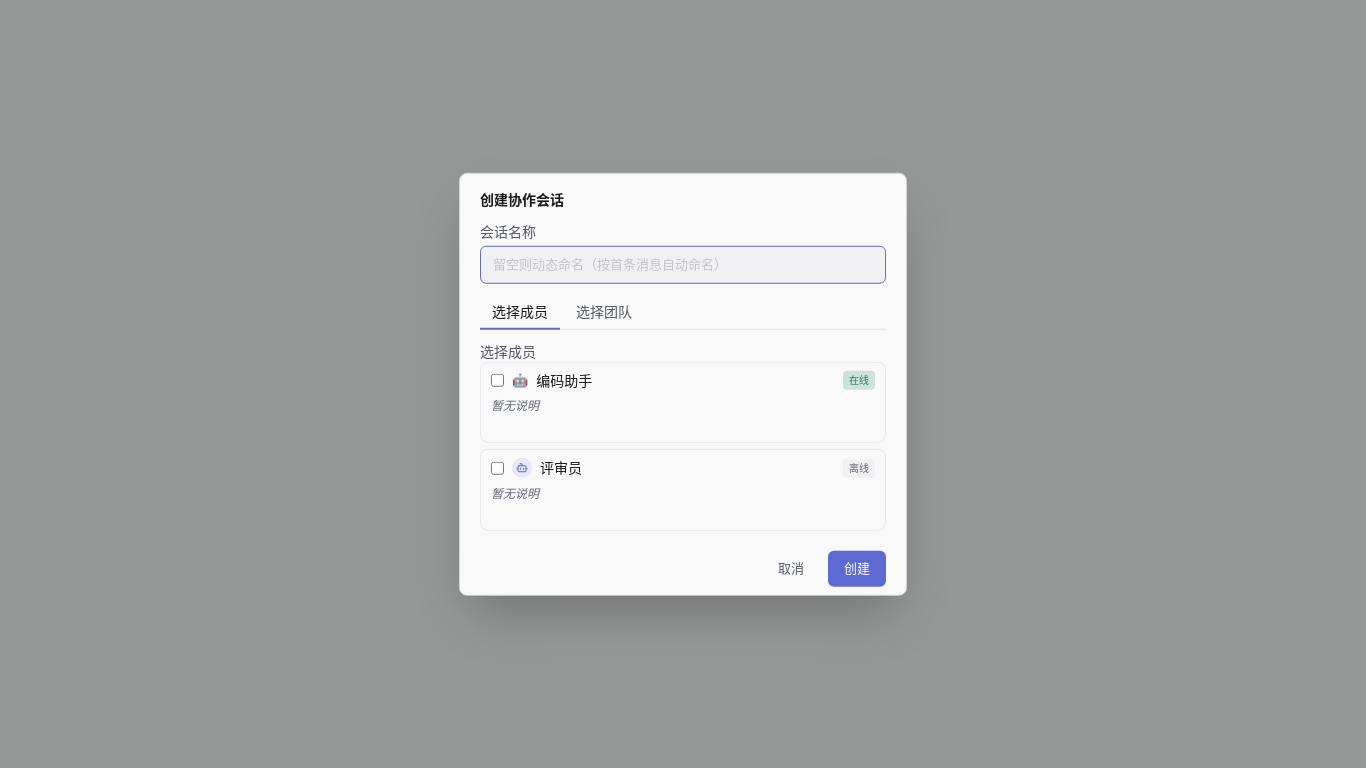
Test: CollabSessionDialog — 成员多选与主 agent（Task 11，预览 B rev2 批准交互） › 1. 勾选两个成员 → 引导文案 + 已选卡各出 radio 行 + 首个选中者默认 leader（名旁 Crown 徽标）
The width and height of the screenshot is (1366, 768).
Click the checkbox labelled "编码助手". click: click(498, 380)
box: [491,374,504,387]
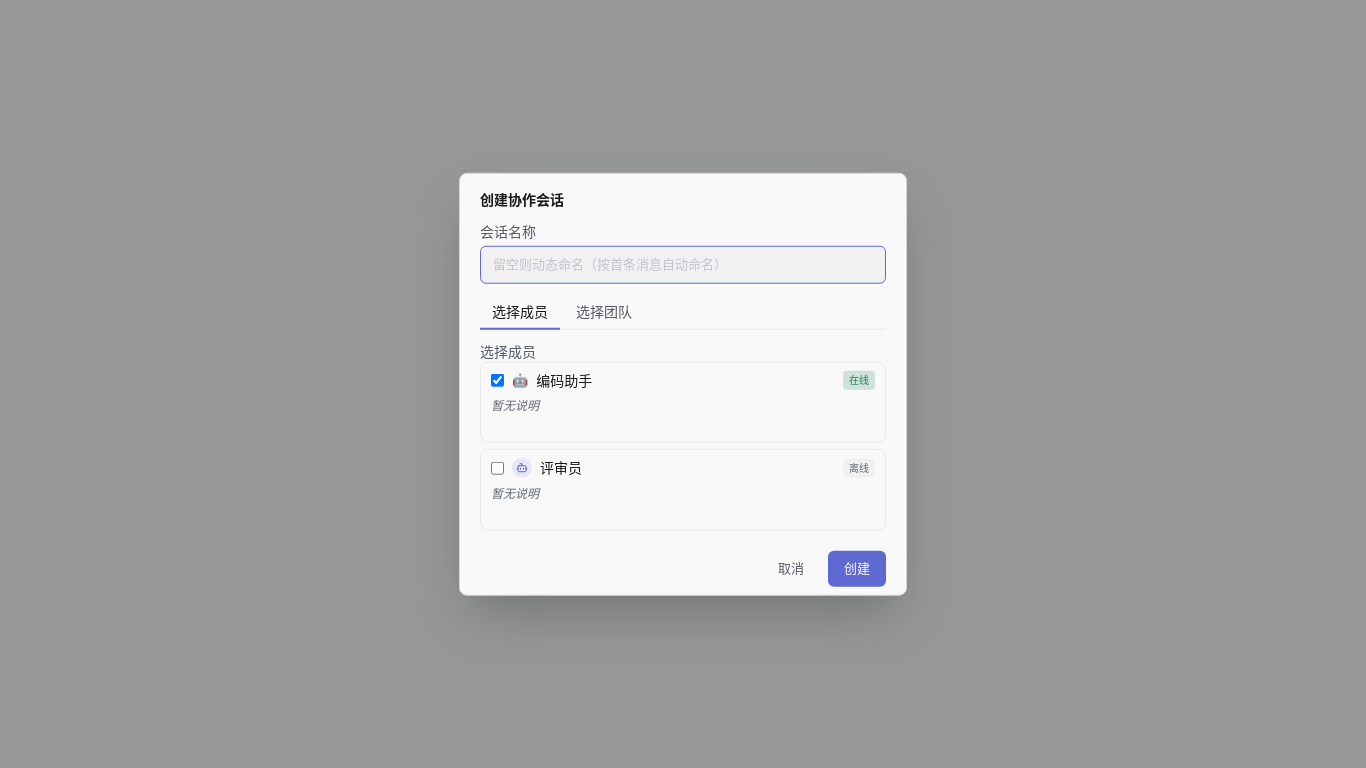
Click the checkbox labelled "评审员". click: click(498, 468)
box: [491,462,504,474]
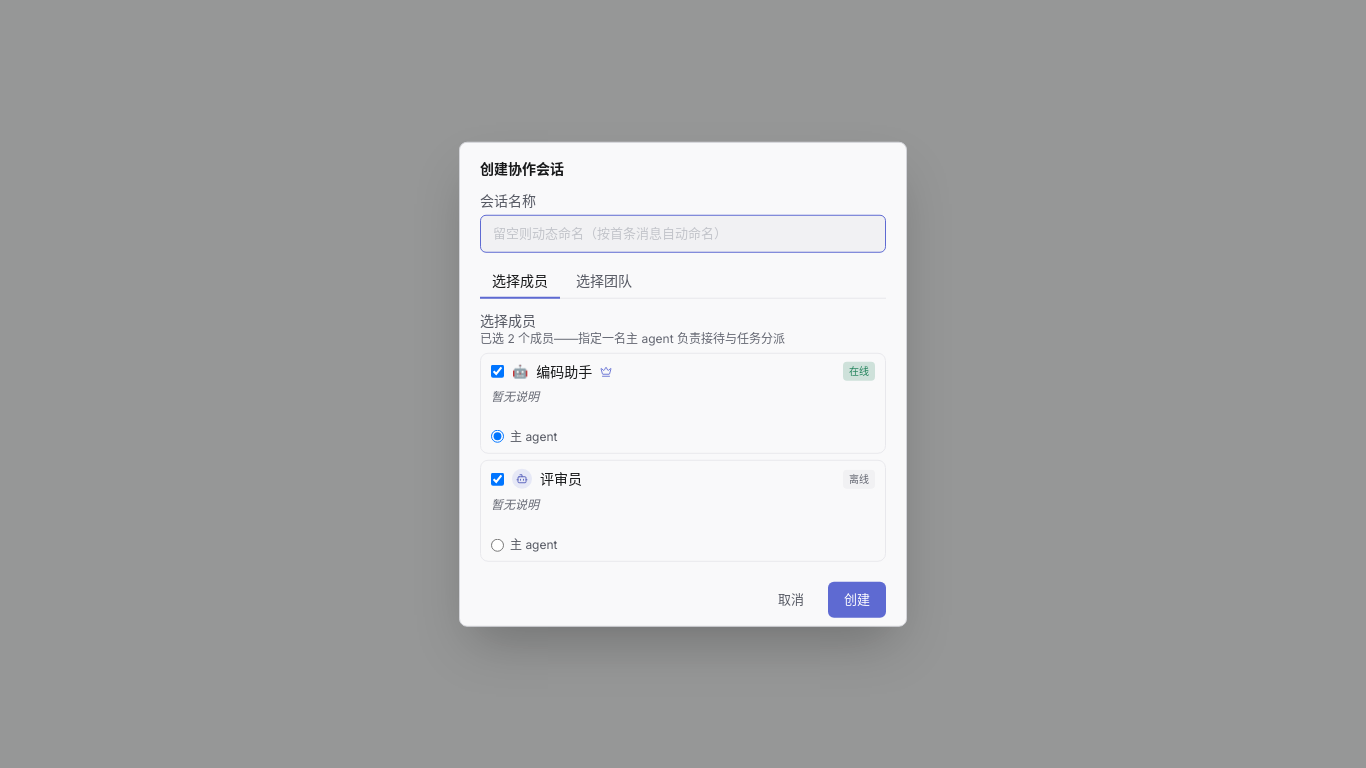
Expected: the text "已选 2 个成员——指定一名主 agent 负责接待与任务分派" is shown, [480,330,785,345]
Expected: the radio button with test id "leader-radio-inst-1" is checked, [491,430,504,443]
Expected: the radio button with test id "leader-radio-inst-2" is not checked, [491,538,504,551]
